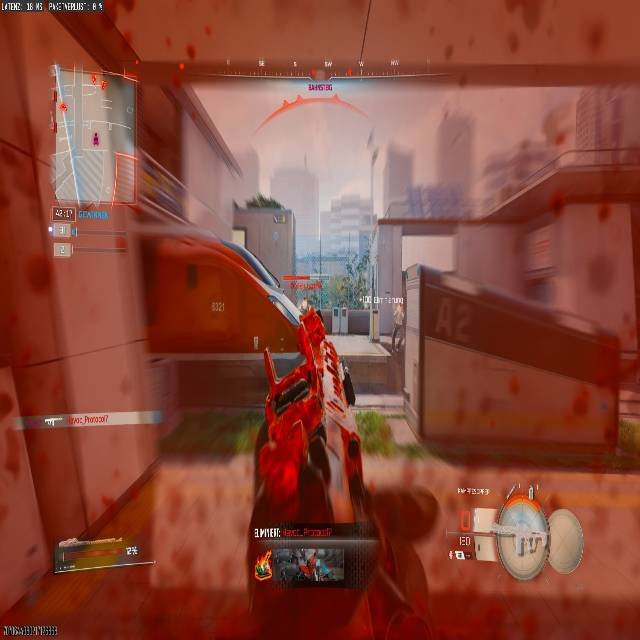player: (295, 302, 326, 368)
